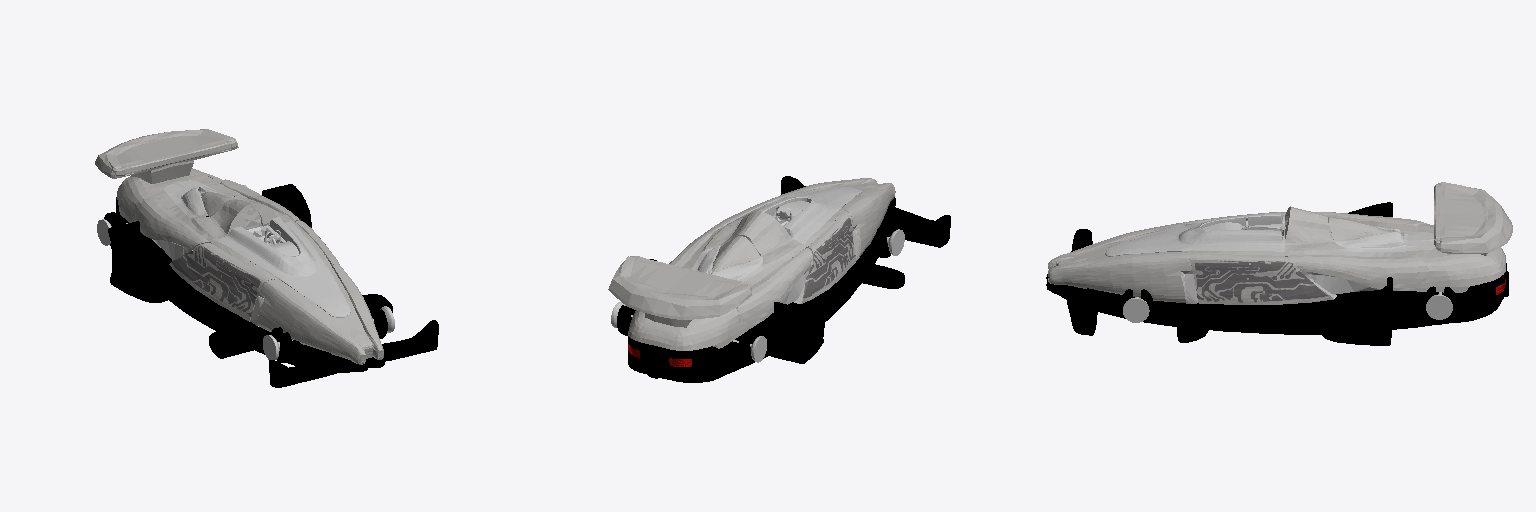
The picture shows the model from 3 angles: view 1: azimuth 30°, elevation 25°; view 2: azimuth 150°, elevation 25°; view 3: azimuth 270°, elevation 25°; orthographic projection.
Visible parts, largest first — view 1: WheelsPart1_Plane.000; view 2: WheelsPart1_Plane.000; view 3: WheelsPart1_Plane.000.
Boxes of the visible parts, <box> form: WheelsPart1_Plane.000: <box>95,129,438,387</box>; WheelsPart1_Plane.000: <box>608,176,950,382</box>; WheelsPart1_Plane.000: <box>1046,182,1512,345</box>.
Bounding box in the file's own units: 2.05 × 1.03 × 4.47.
Materials: 5 (2 with a texture image).